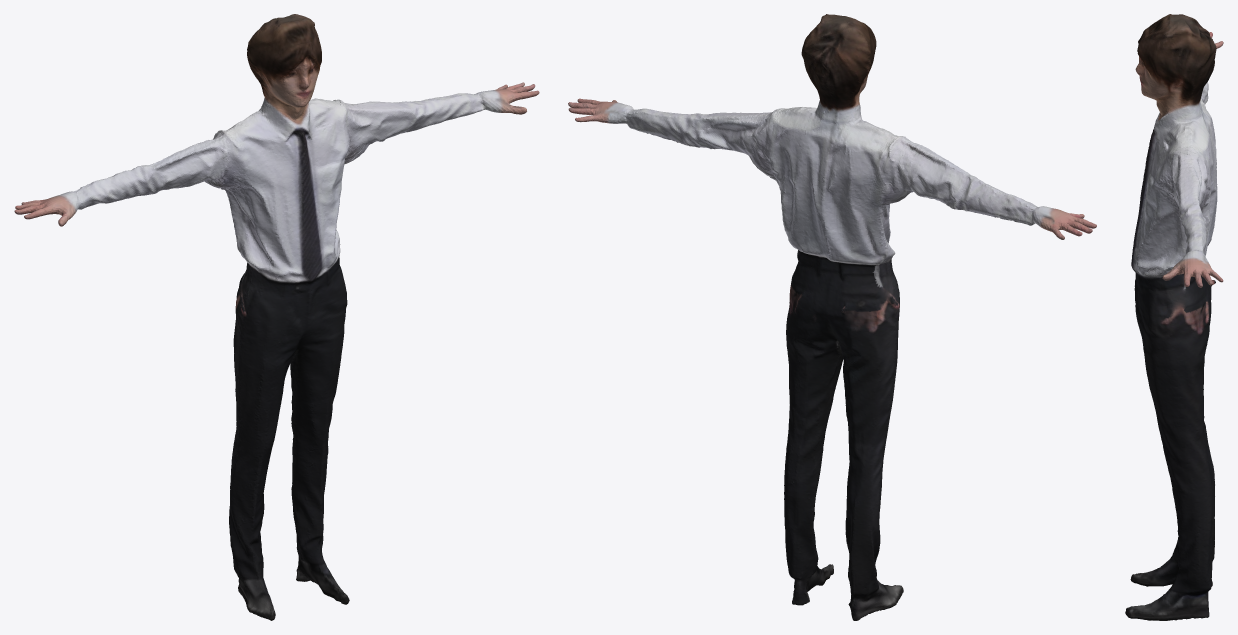
Rendered from animation_lowres.obj.
The picture shows the model from 3 angles, left to right: view 1: azimuth 30°, elevation 25°; view 2: azimuth 150°, elevation 25°; view 3: azimuth 270°, elevation 25°; orthographic projection.
Bounding box in the file's own units: 1.69 × 1.79 × 0.2733.
